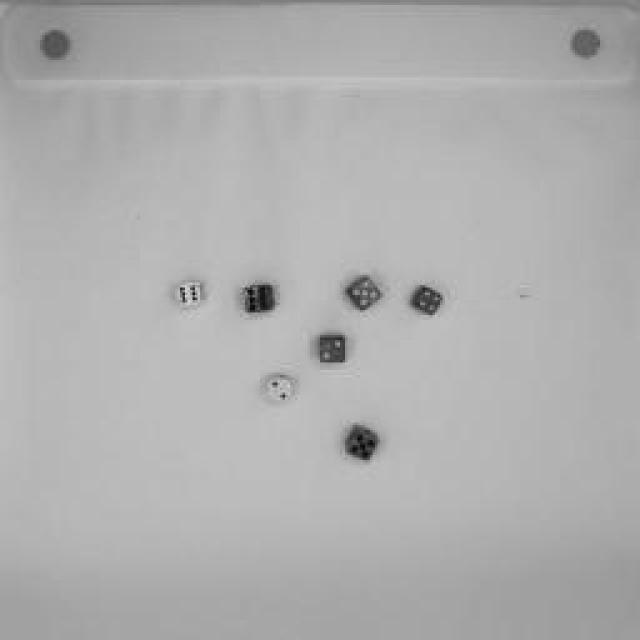dice_2: (314, 332, 351, 366), (264, 371, 294, 409)
dice_4: (406, 284, 444, 316)
dice_5: (346, 270, 382, 312), (342, 424, 380, 461)
dice_6: (238, 276, 280, 319), (174, 275, 206, 310)
